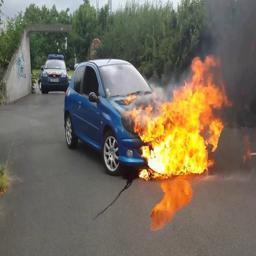fire: (126, 54, 232, 180)
